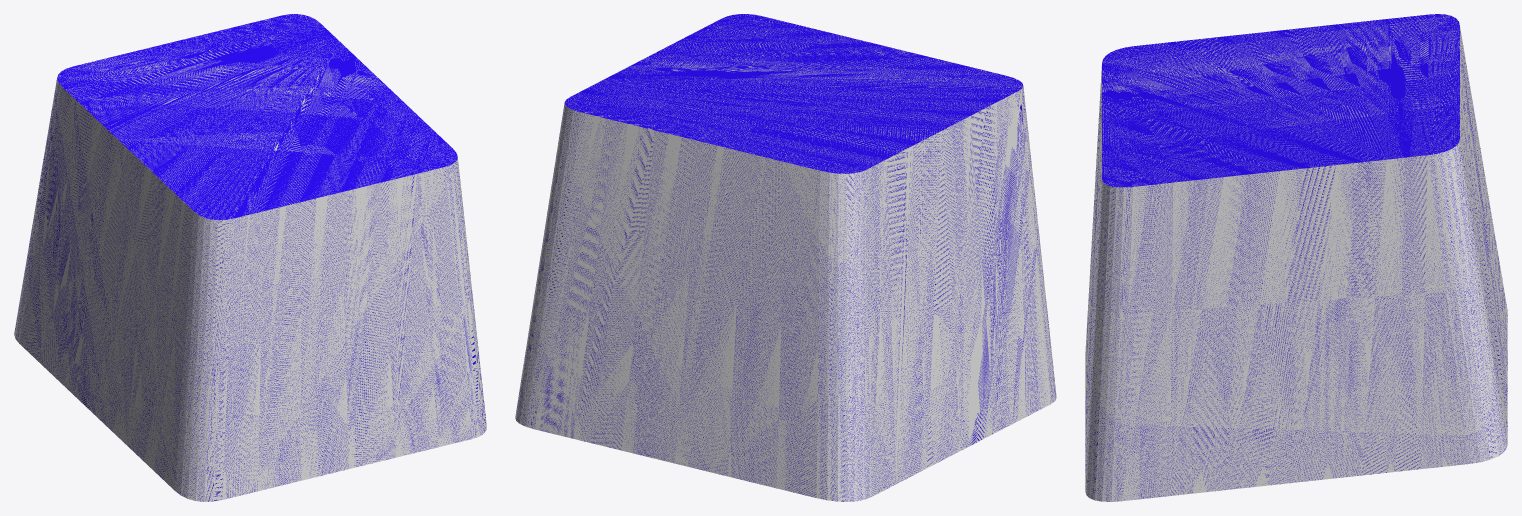
File: original-91.obj
3 renders of one model, left to right at view 1: azimuth 30°, elevation 25°; view 2: azimuth 150°, elevation 25°; view 3: azimuth 270°, elevation 25°, orthographic. The views are drawn at different scales.
Parts seen in each view (by area): view 1: mesh91/mesh91-geometry#mesh91-geometry; view 2: mesh91/mesh91-geometry#mesh91-geometry; view 3: mesh91/mesh91-geometry#mesh91-geometry.
Boxes of the visible parts, x1,y1,x2,y2 form: mesh91/mesh91-geometry#mesh91-geometry: [14, 14, 486, 501]; mesh91/mesh91-geometry#mesh91-geometry: [515, 14, 1056, 501]; mesh91/mesh91-geometry#mesh91-geometry: [1085, 14, 1507, 501].
Bounding box in the file's own units: 0.0633 × 0.0606 × 0.0681.
